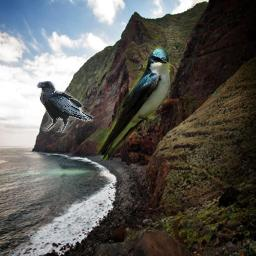Crow: (36, 81, 94, 133)
Swallow: (96, 46, 173, 163)
